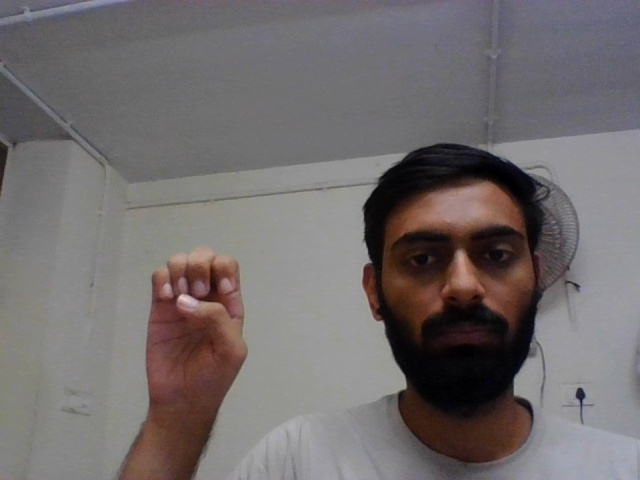E: (133, 233, 256, 438)
